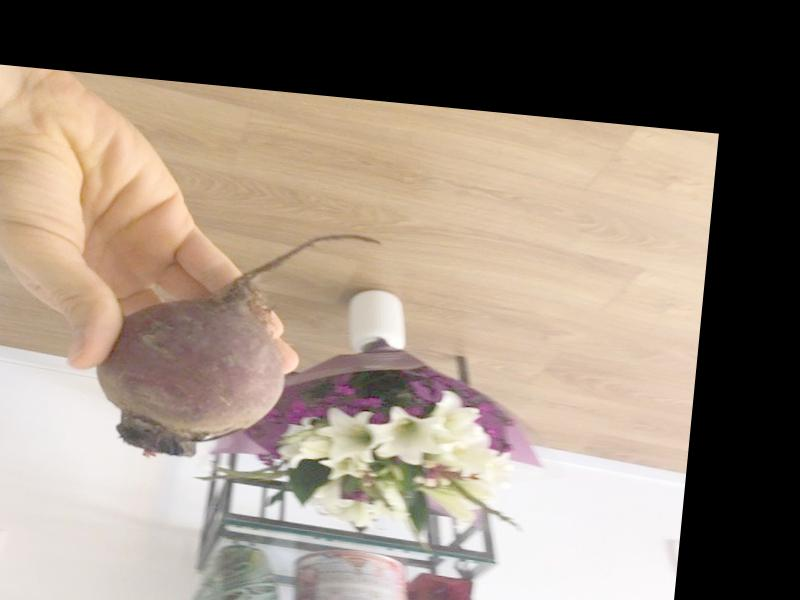Beet: (90, 212, 386, 475)
